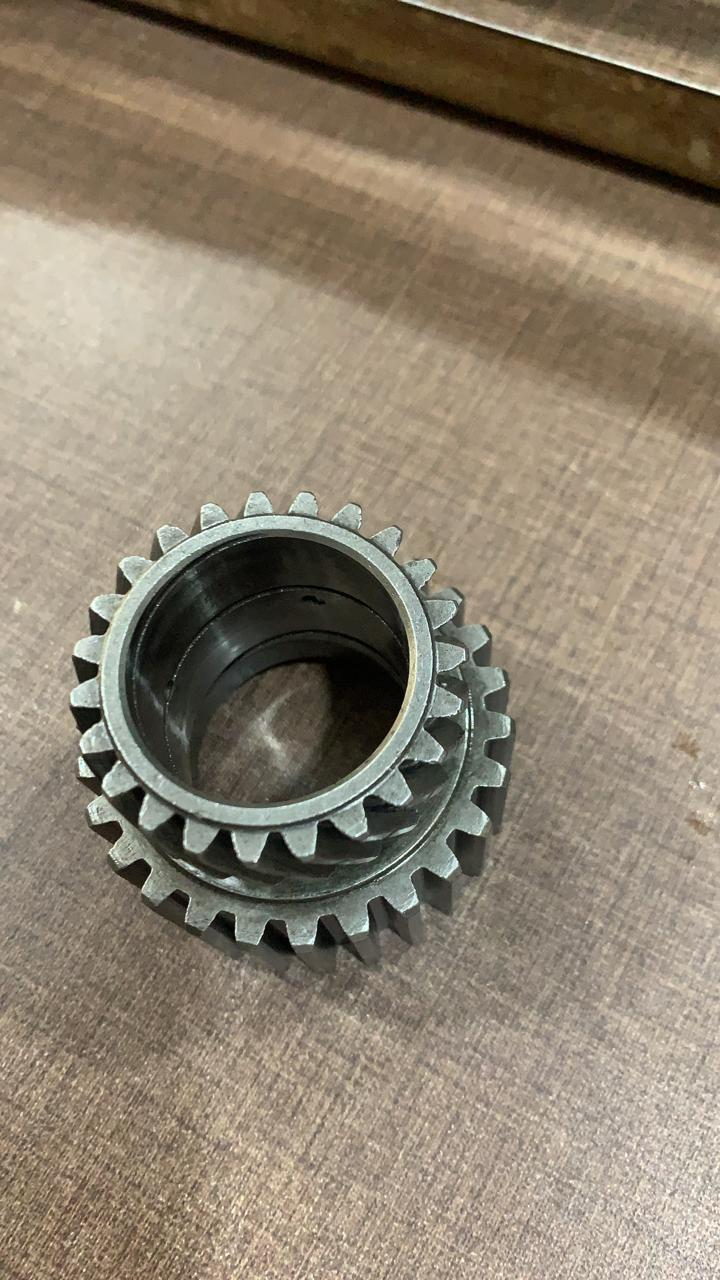engine gear ape: (41, 437, 568, 1049)
